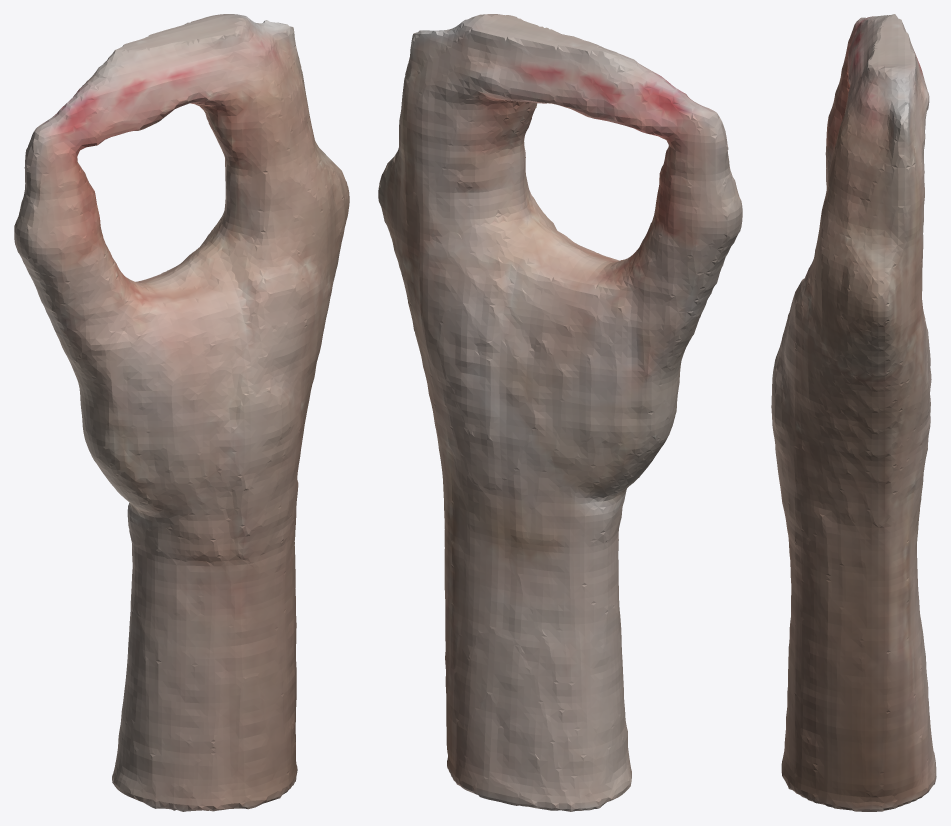
Rendered from ASL0.glb.
3 views of the same model, side by side, from view 1: azimuth 30°, elevation 25°; view 2: azimuth 150°, elevation 25°; view 3: azimuth 270°, elevation 25° (orthographic). The views are drawn at different scales.
Parts seen in each view (by area): view 1: world; view 2: world; view 3: world.
Part boxes in pixels (bbox=[...]): world: bbox=[14, 14, 349, 811]; world: bbox=[378, 14, 742, 811]; world: bbox=[771, 14, 936, 811].
Bounding box in the file's own units: 0.9486 × 2 × 0.4079.
